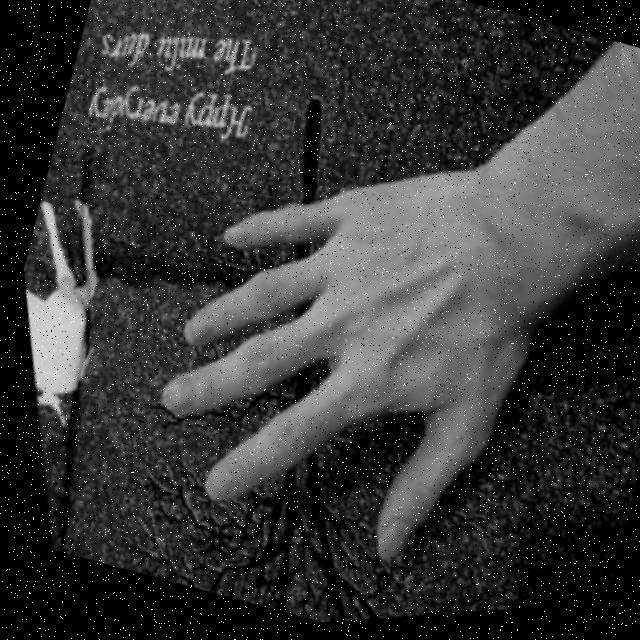hand: (94, 91, 589, 606)
